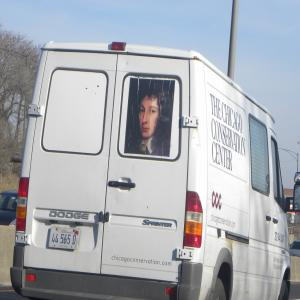Vehicle-registration-plate: (44, 236, 78, 260)
